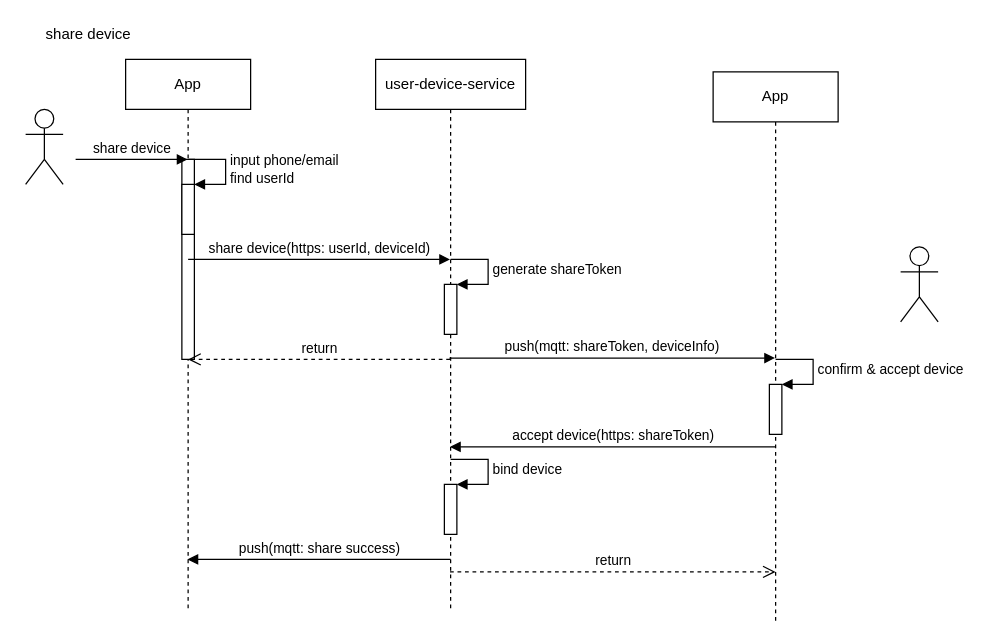
Some shapes in this 986 by 644 pixel diagram are drawn without their labels. Here are the shapes that lost their labels. From the top down, the centre of each, then its label:
the point at 43,146: master
the point at 918,284: Slaver
